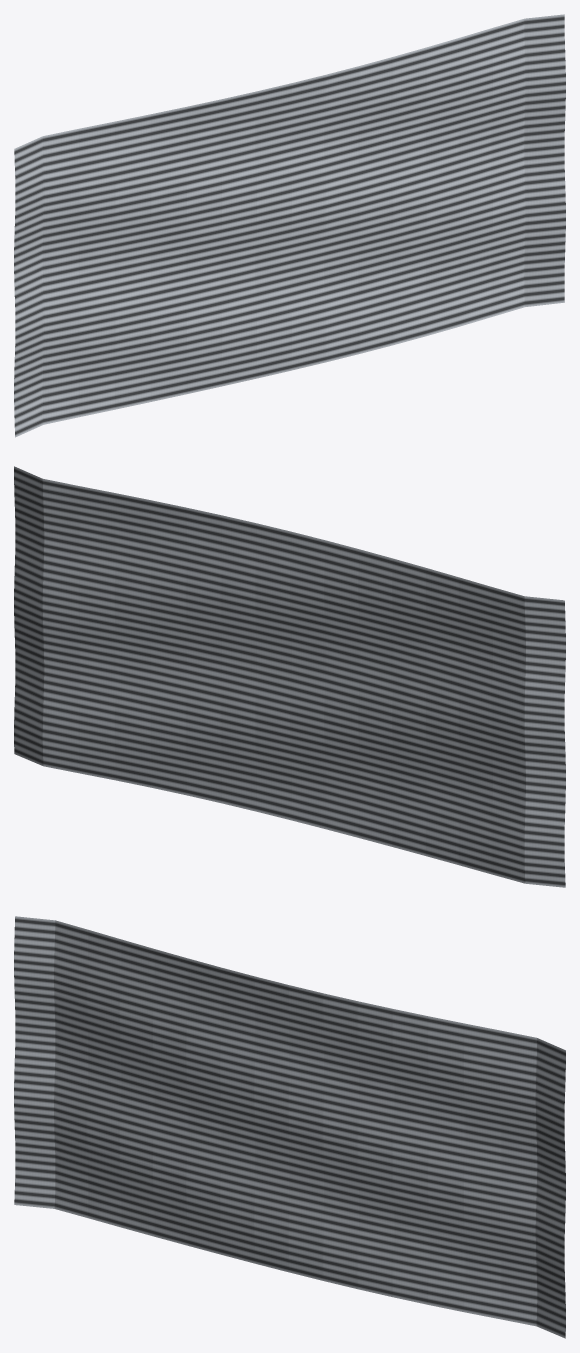
The model's file is falls.gltf.
3 renders of one model, top to bottom at view 1: azimuth 30°, elevation 25°; view 2: azimuth 150°, elevation 25°; view 3: azimuth 330°, elevation 25°, orthographic.
Parts seen in each view (by area): view 1: jx_falls; view 2: jx_falls; view 3: jx_falls.
Part boxes in pixels (bbox=[...]): jx_falls: bbox=[14, 14, 565, 437]; jx_falls: bbox=[14, 466, 565, 887]; jx_falls: bbox=[14, 916, 565, 1338].
Bounding box in the file's own units: 12 × 6 × 0.301.
1 material, 1 textured.
